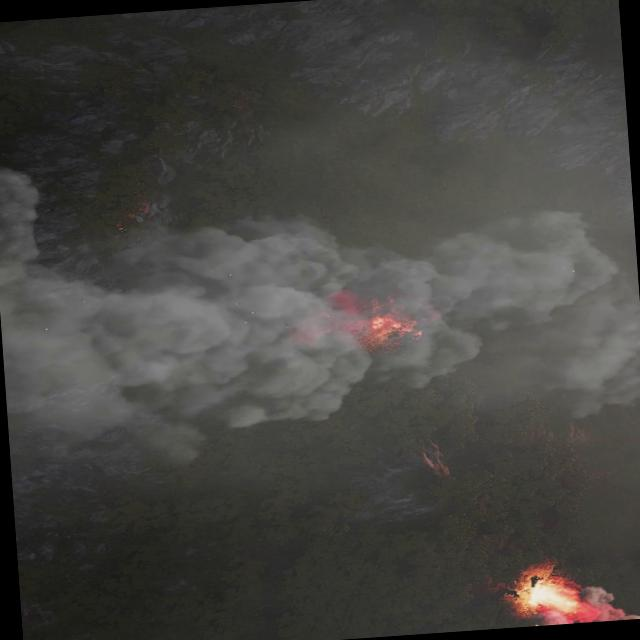fire: (317, 288, 429, 352), (518, 574, 584, 620)
smoke: (0, 0, 640, 640)
